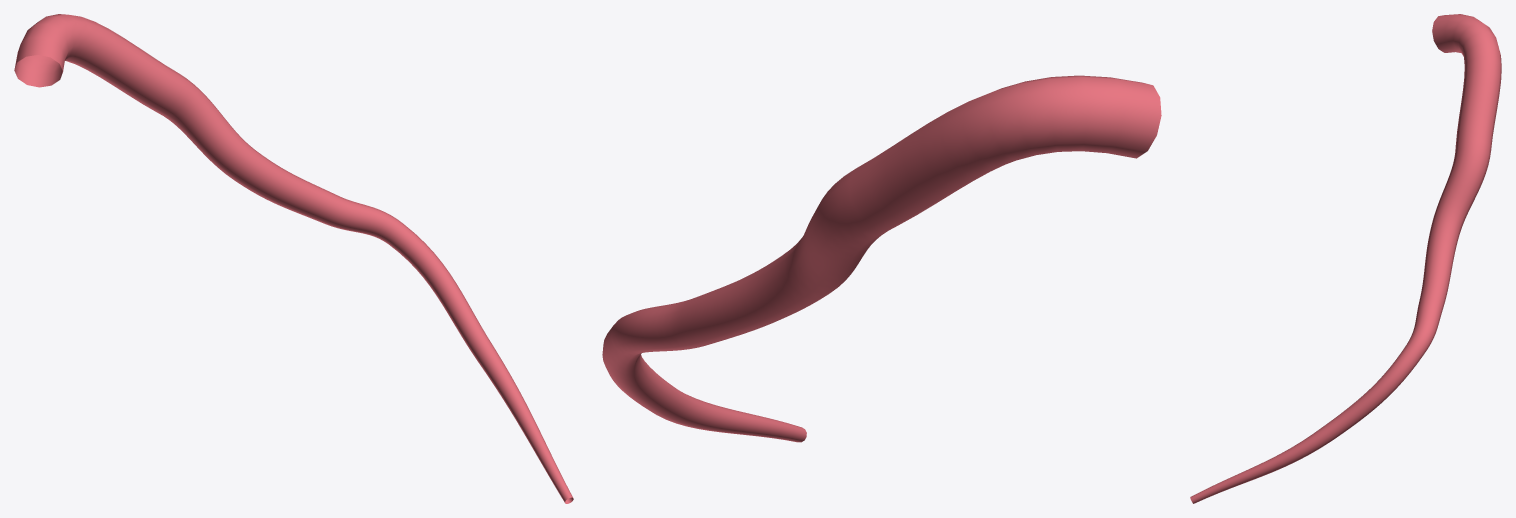
The picture shows the model from 3 angles, left to right: view 1: azimuth 30°, elevation 25°; view 2: azimuth 150°, elevation 25°; view 3: azimuth 270°, elevation 25°; orthographic projection. The views are drawn at different scales.
Parts seen in each view (by area): view 1: ZA_e400710d422eb788; view 2: ZA_e400710d422eb788; view 3: ZA_e400710d422eb788.
Part boxes in pixels (bbox=[...]): ZA_e400710d422eb788: bbox=[14, 14, 573, 503]; ZA_e400710d422eb788: bbox=[602, 75, 1161, 442]; ZA_e400710d422eb788: bbox=[1190, 14, 1501, 503].
Size of the model in its own units: 0.0475 by 0.0497 by 0.0401.
